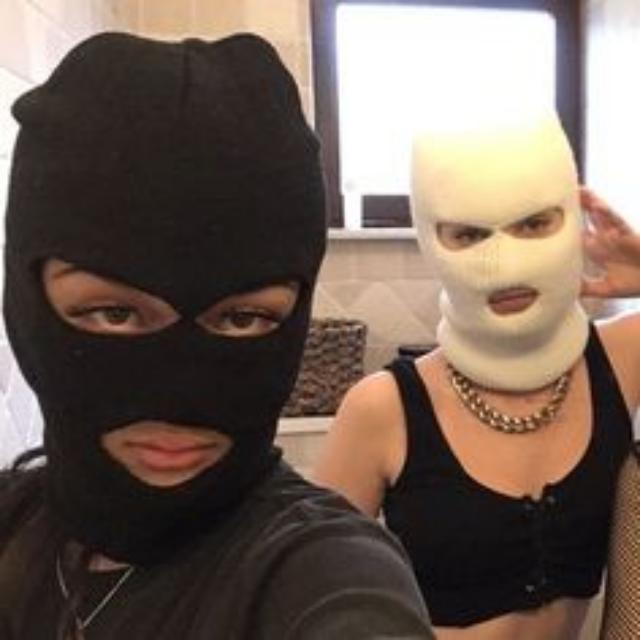criminal: (0, 32, 436, 640), (310, 89, 640, 640)
